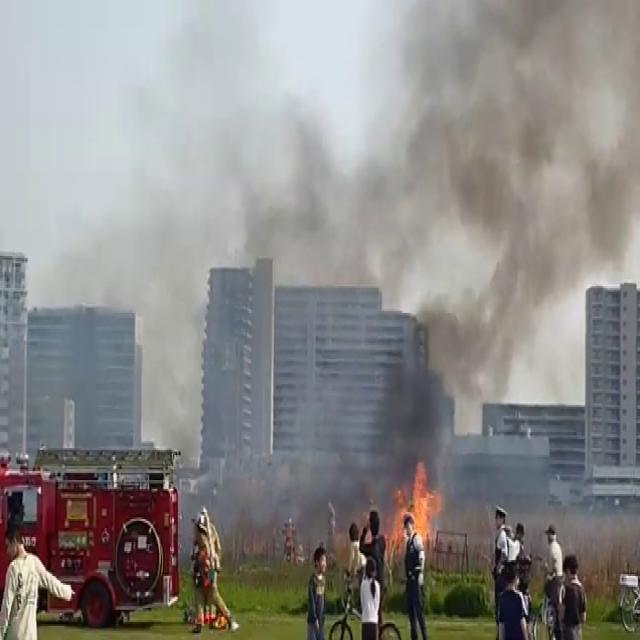Fire: (382, 459, 446, 553)
Smoke: (256, 0, 640, 467)
